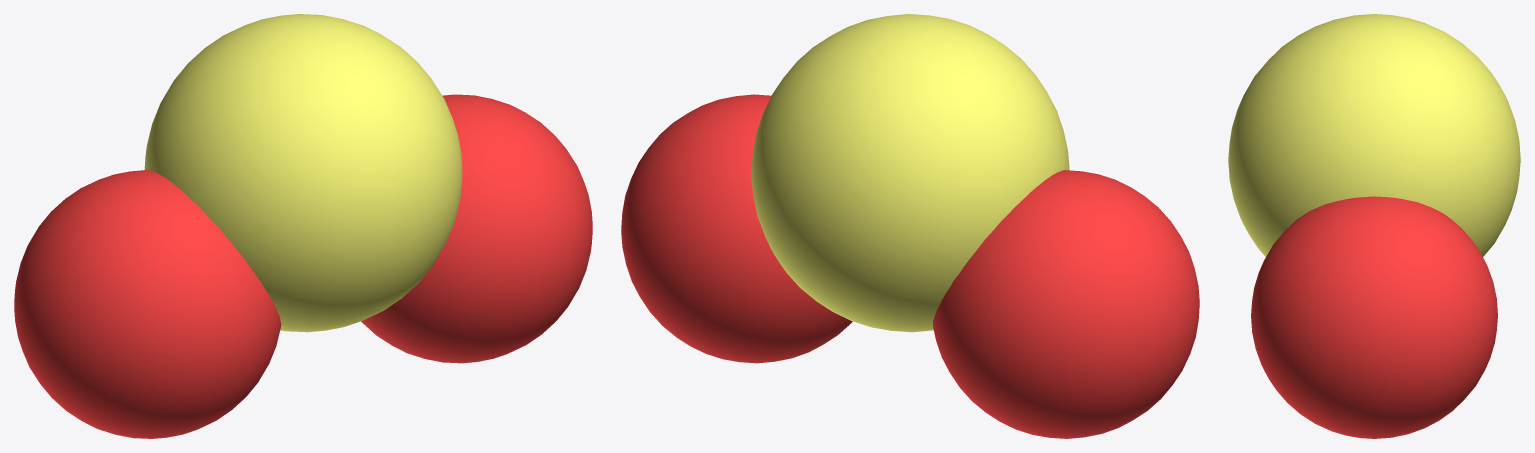
3 views of the same model, side by side, from view 1: azimuth 30°, elevation 25°; view 2: azimuth 150°, elevation 25°; view 3: azimuth 270°, elevation 25° (orthographic). The views are drawn at different scales.
Visible parts, largest first — view 1: S_Atom, O_Atom, O_Atom_1; view 2: S_Atom, O_Atom, O_Atom_1; view 3: S_Atom, O_Atom_1.
Part boxes in pixels (x1,y1,x2,y2): S_Atom: (144,14,462,332); O_Atom: (14,170,281,438); O_Atom_1: (361,94,592,363); S_Atom: (751,14,1069,332); O_Atom: (933,170,1199,438); O_Atom_1: (621,94,852,363); S_Atom: (1228,14,1520,256); O_Atom_1: (1251,196,1497,438).
Bounding box in the file's own units: 5.31 × 3.36 × 2.7.
